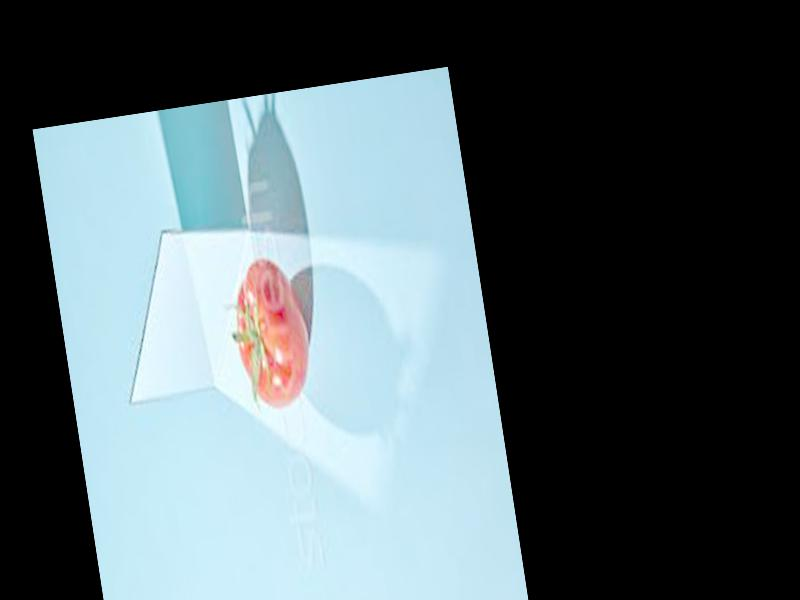Tomato: (226, 253, 318, 412)
